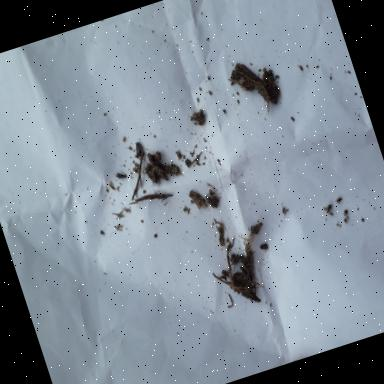pbw: (150, 160, 168, 184), (144, 149, 158, 168), (146, 169, 159, 185)
